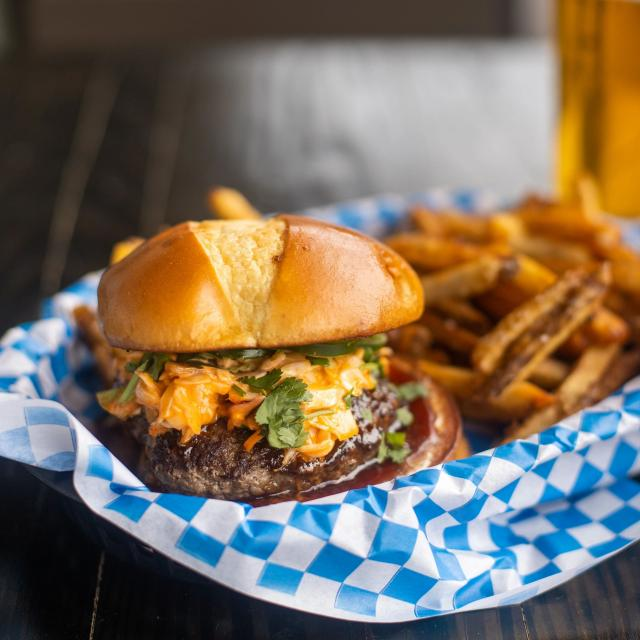Burger: (84, 188, 442, 506)
French Fries: (420, 150, 638, 458)
